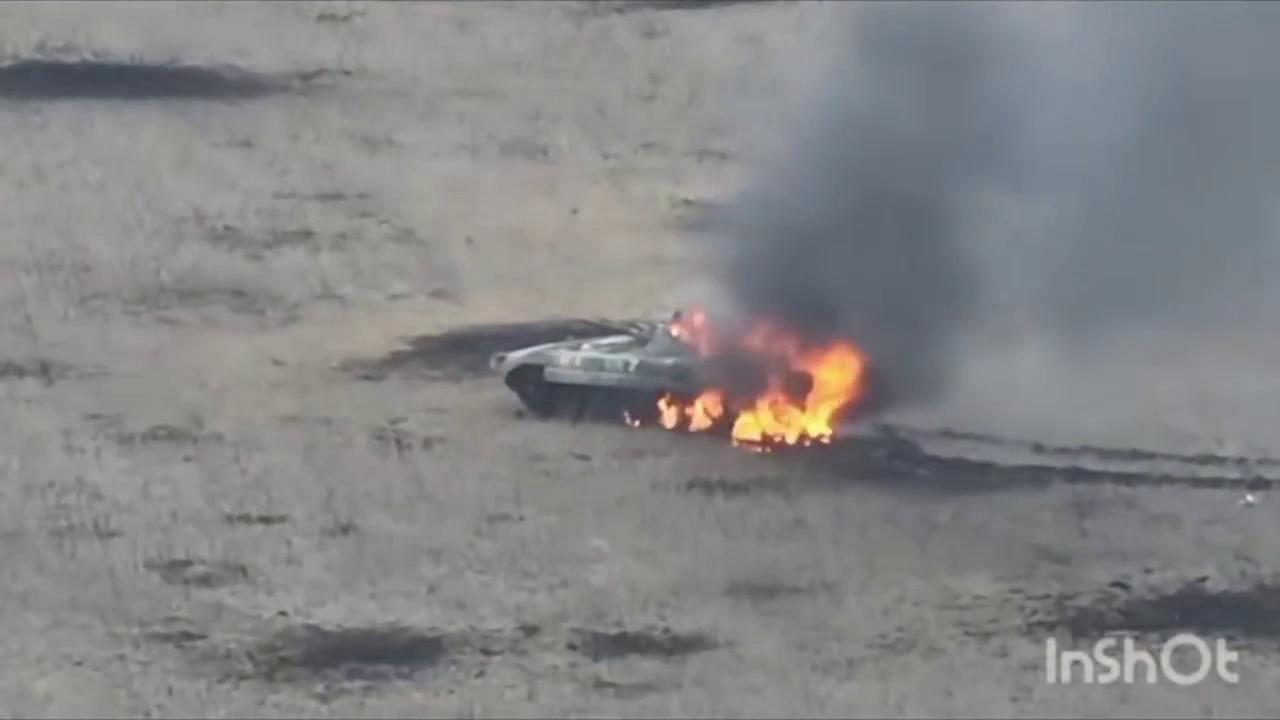vehicle: (491, 314, 825, 425)
